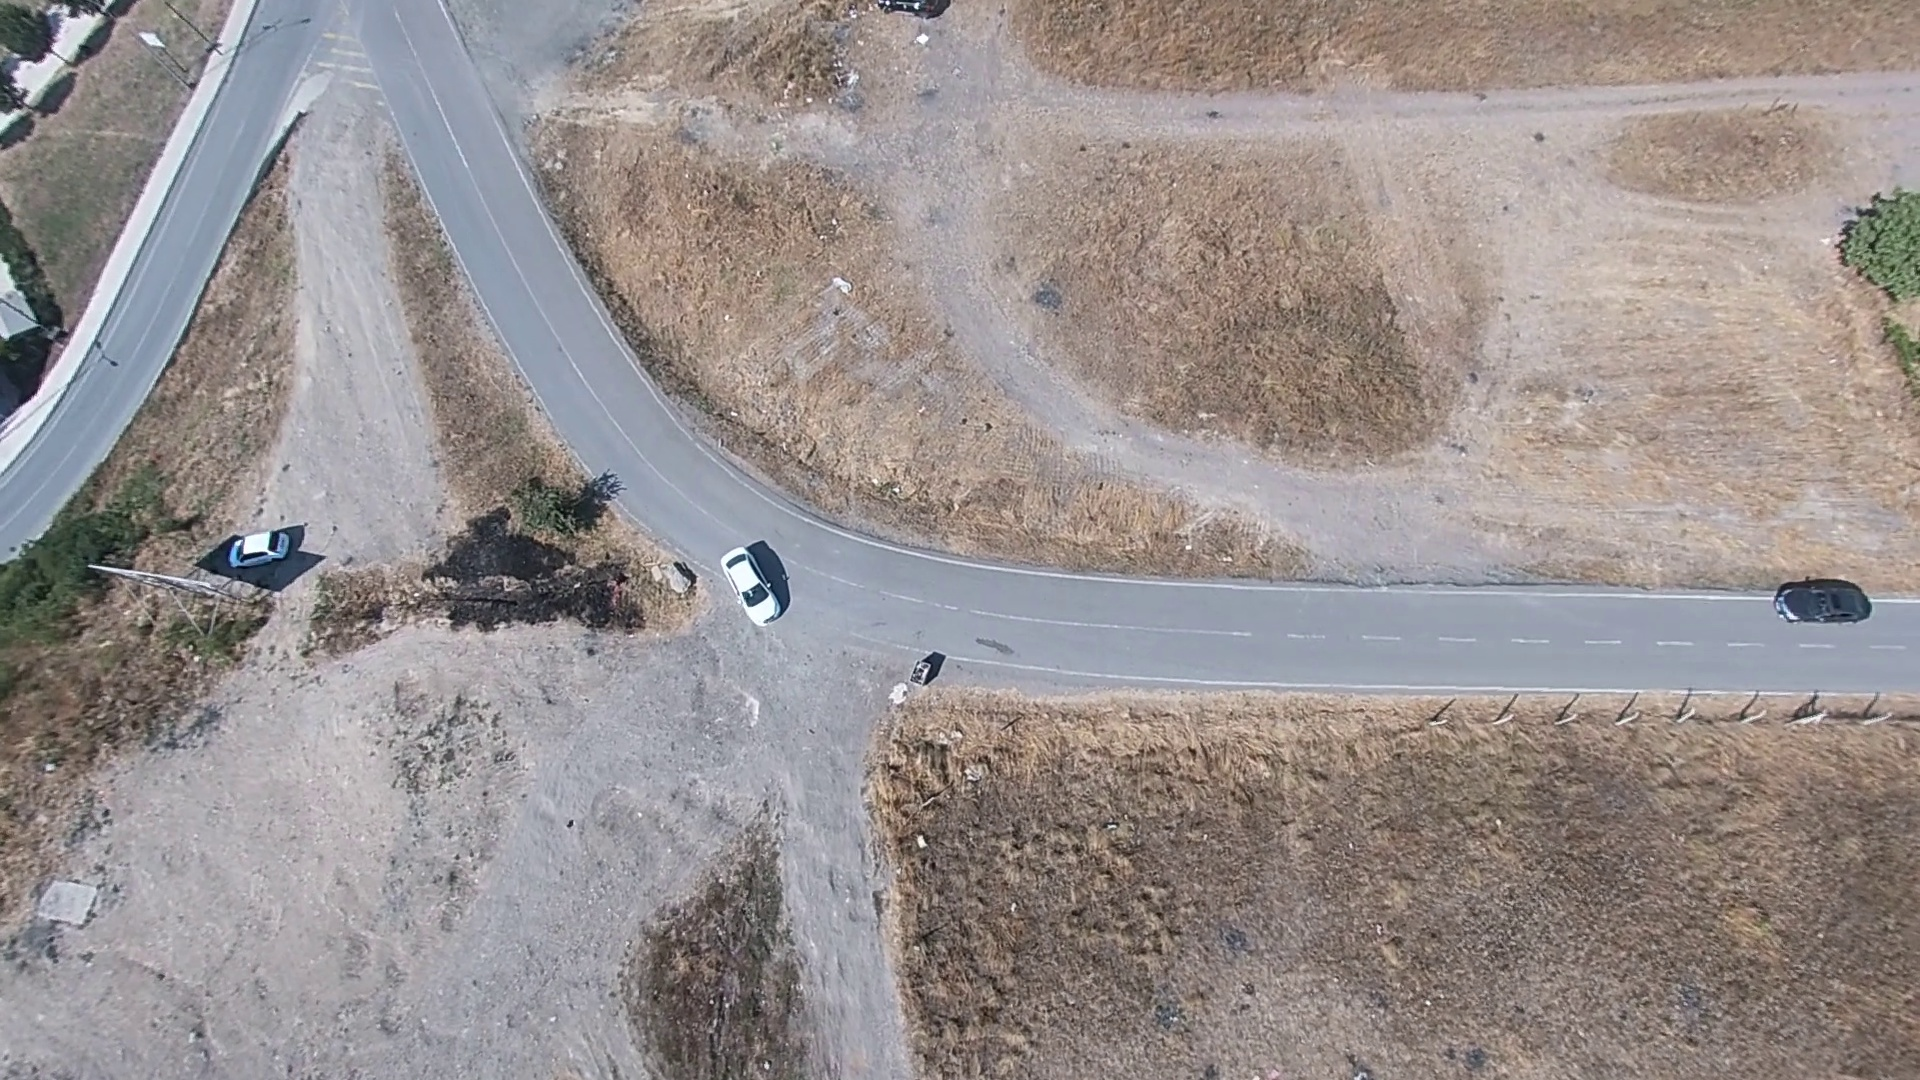arac: (716, 535, 790, 626), (1753, 575, 1880, 622), (224, 521, 302, 567)
